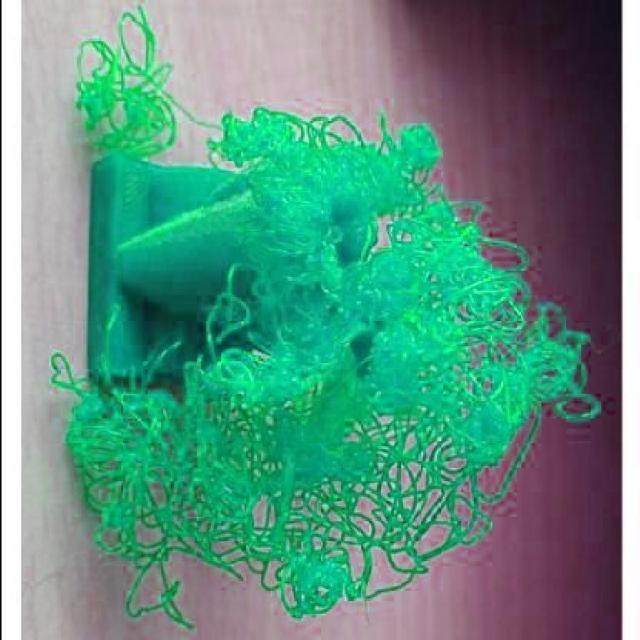spaghetti: (46, 107, 608, 640), (62, 2, 184, 115)
